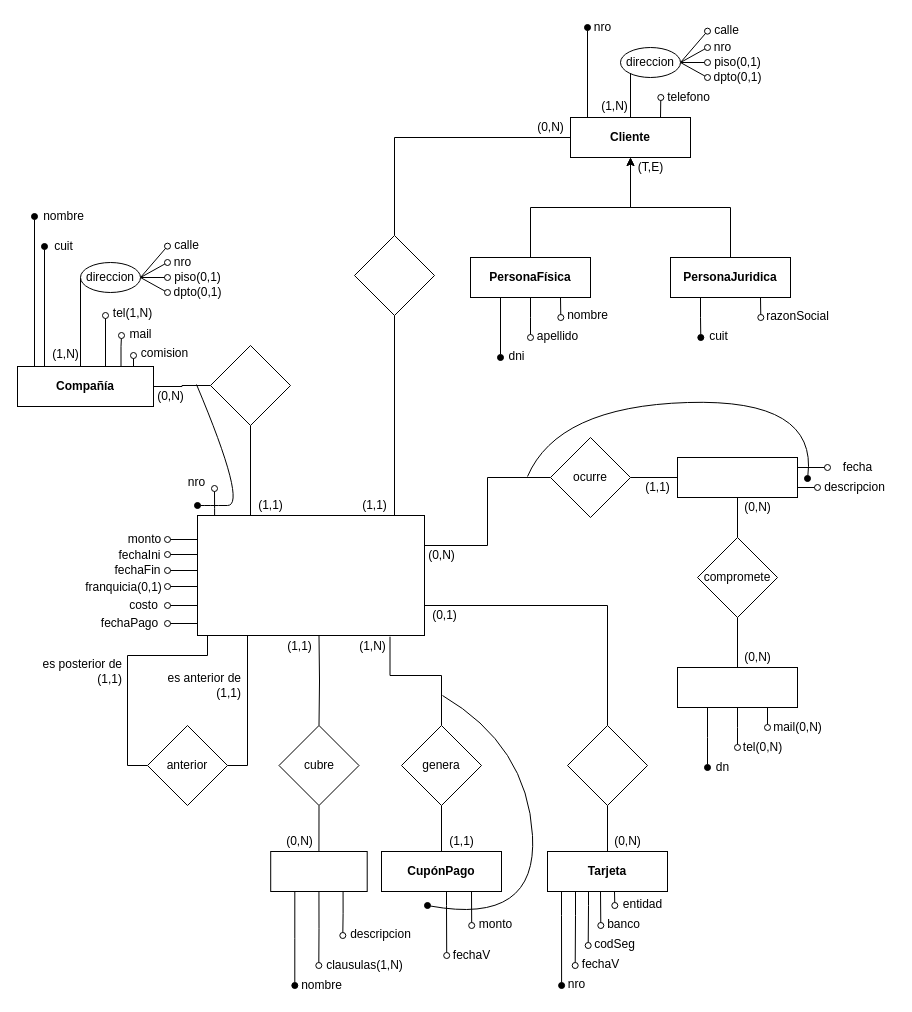
Image size: 912x1012. Some labels were removed from this diagram. Here are the shapes that lost their labels. From the top down, the box of each, then its label:
(354, 234, 434, 316): asegura bien
(210, 344, 290, 426): ofrece
(676, 456, 798, 498): Siniestro
(196, 514, 424, 636): Póliza
(676, 666, 798, 708): Tercero
(566, 724, 648, 806): debita
(270, 850, 367, 892): TipoCobertura
